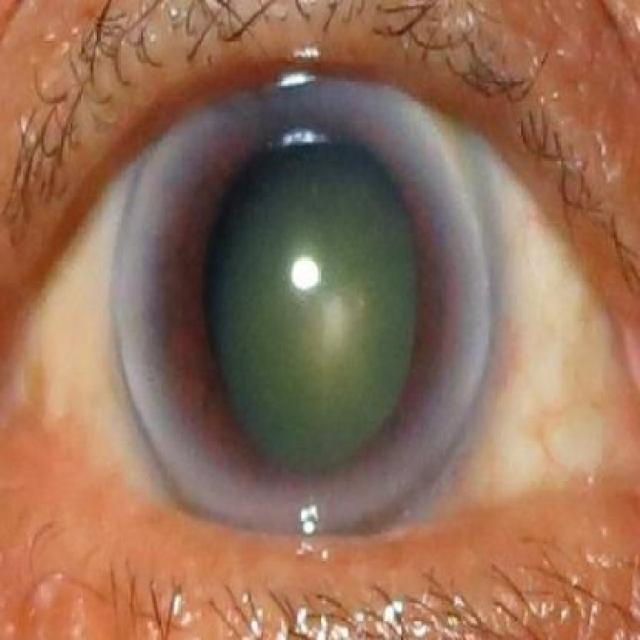Cataract: (111, 61, 502, 542)
